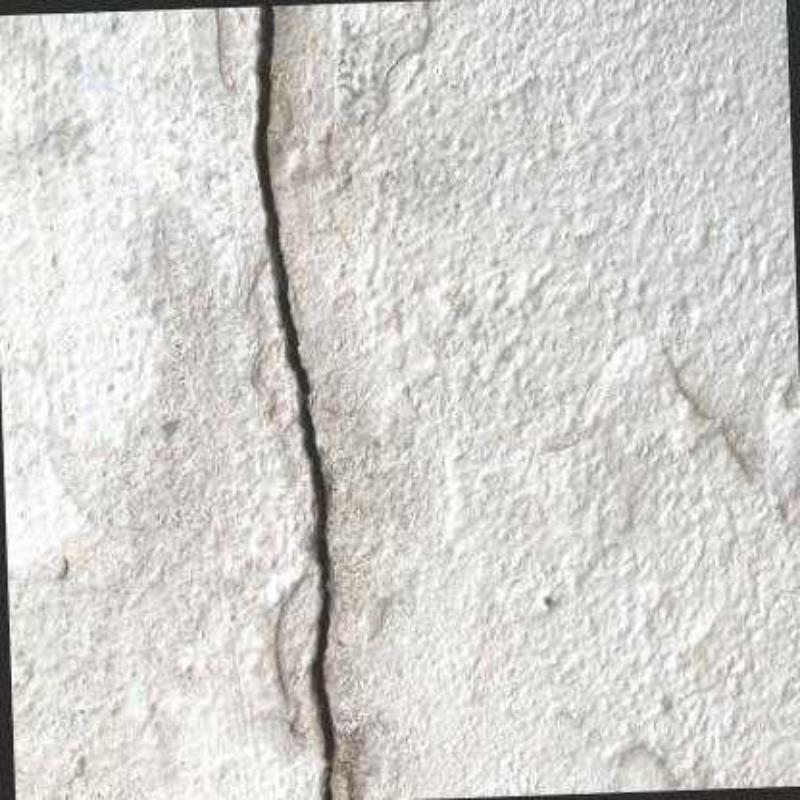pothole: (247, 4, 335, 800)
